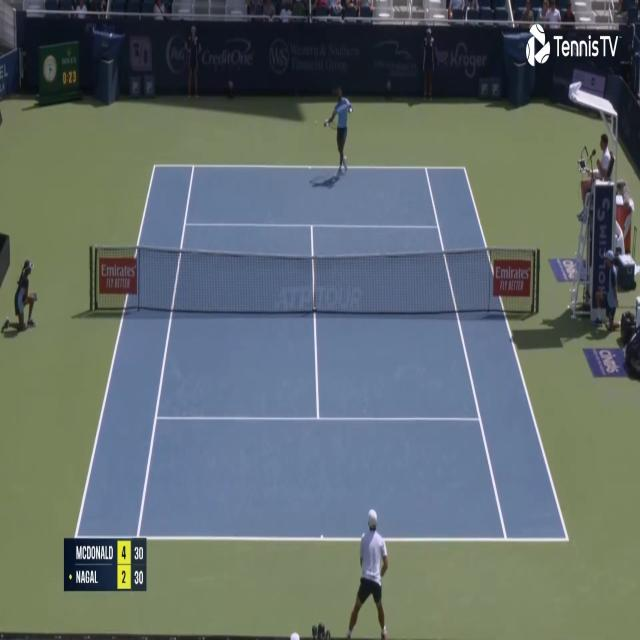tennis-player: (344, 508, 391, 640), (323, 82, 354, 180)
